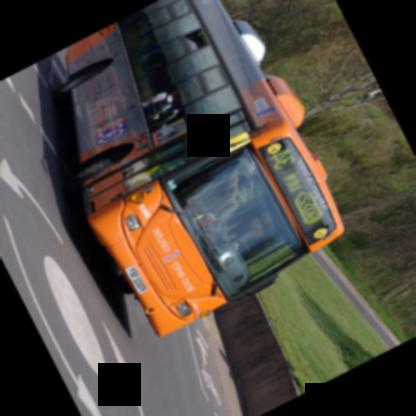backpack: (142, 93, 172, 118)
